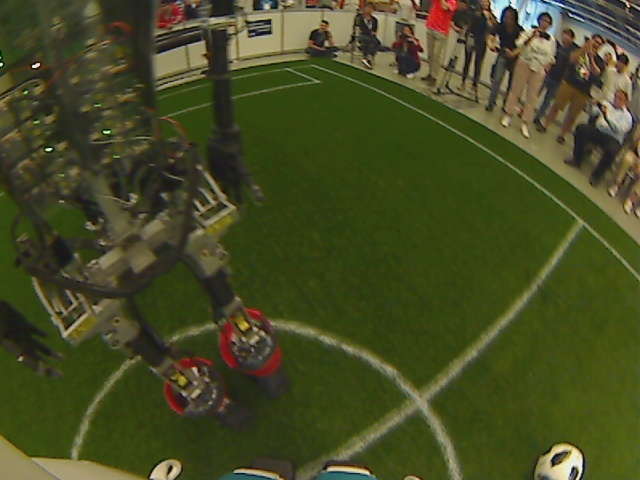ball: (532, 438, 583, 480)
robot: (163, 317, 295, 433)
